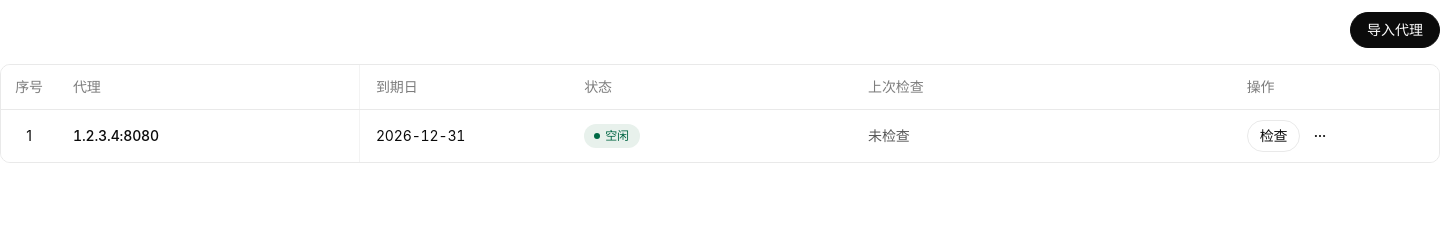
Test: 代理池页 › 检查失败显示原因文案
Step 1. Click the button "检查" → click(1274, 136), box [1247,120,1300,152]
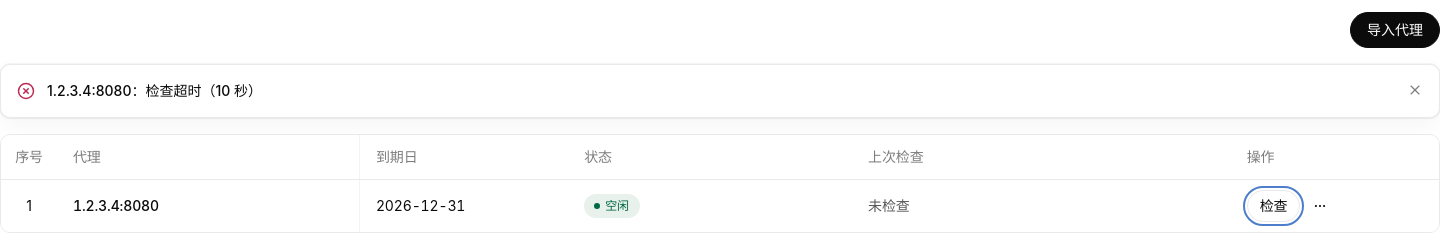
Check: the text "1.2.3.4:8080：检查超时（10 秒）" is shown, box [47,82,262,99]
